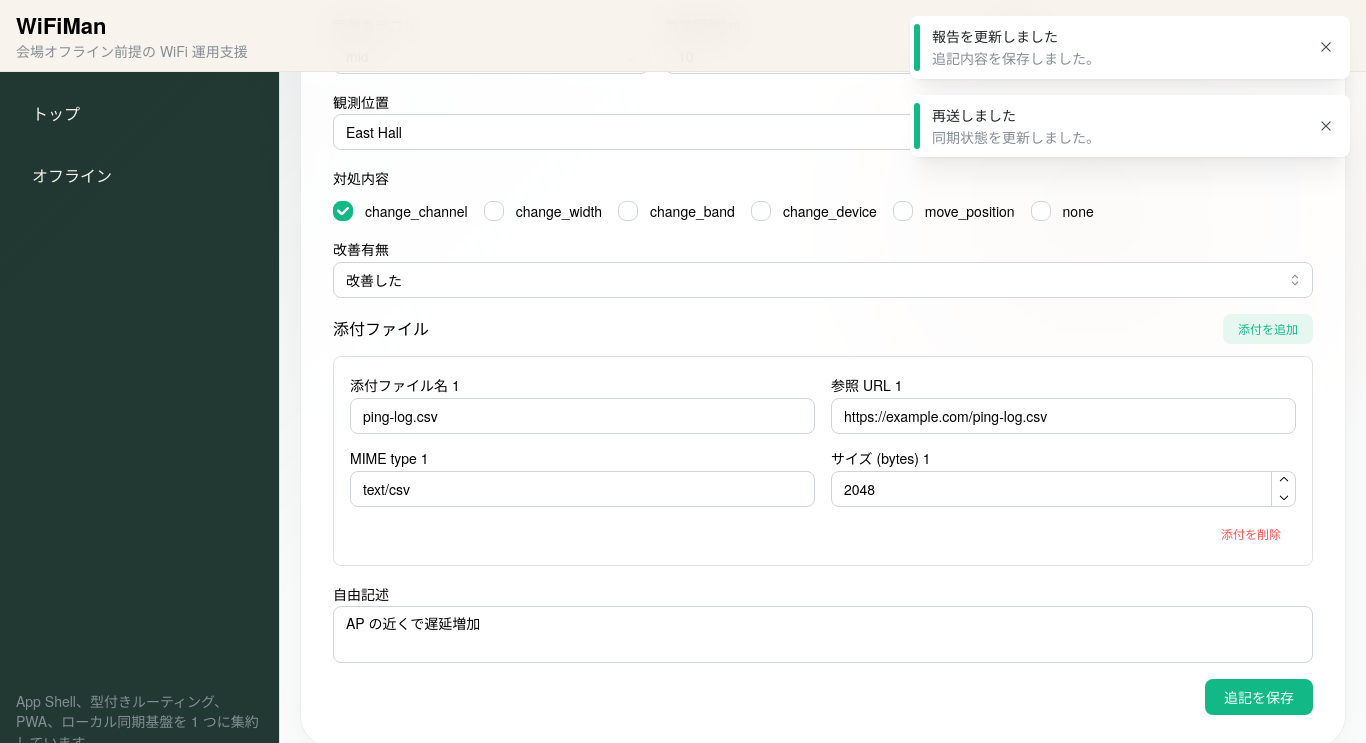
Test: team management routes › 報告詳細の API 失敗は submit error として表示する
(page scrolled)
Click the button "追記を保存": click(1259, 697) [1205,679,1313,715]
(page scrolled)
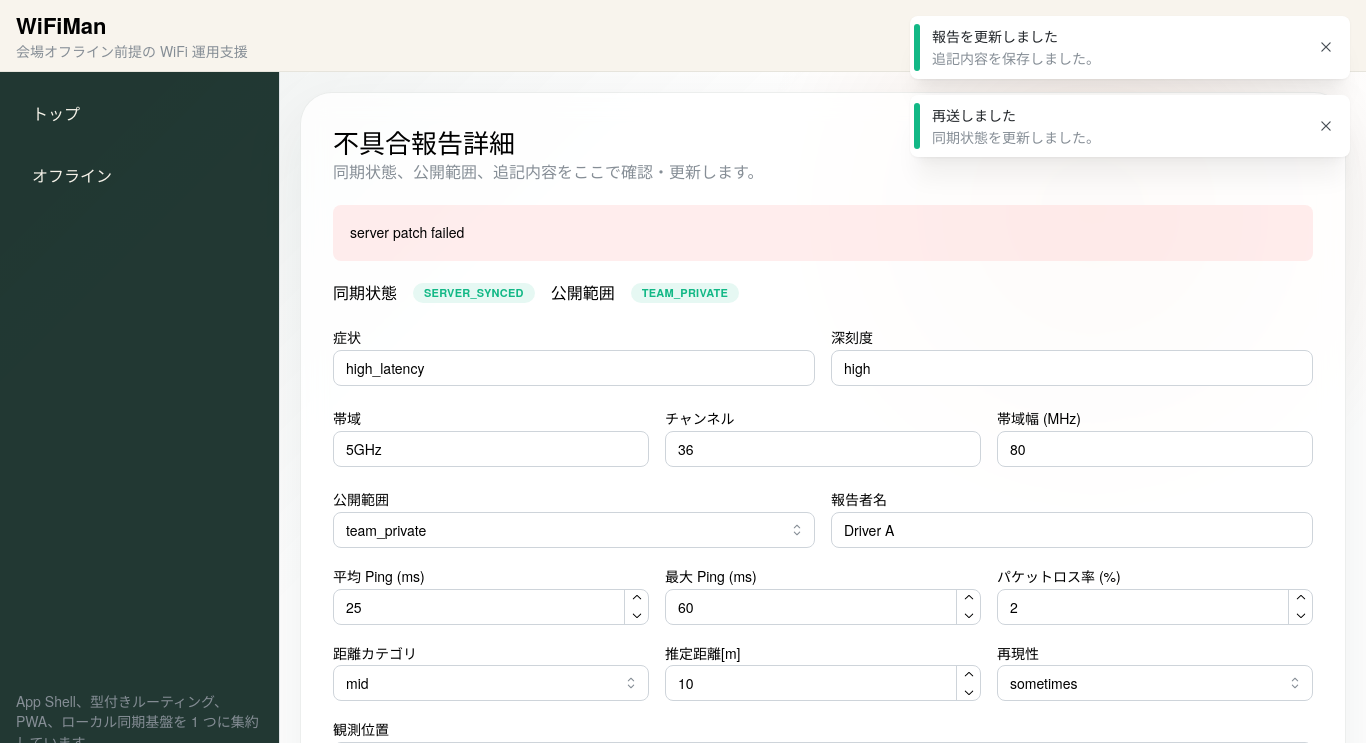
Expected: the text "server patch failed" is shown, [350,222,464,242]
